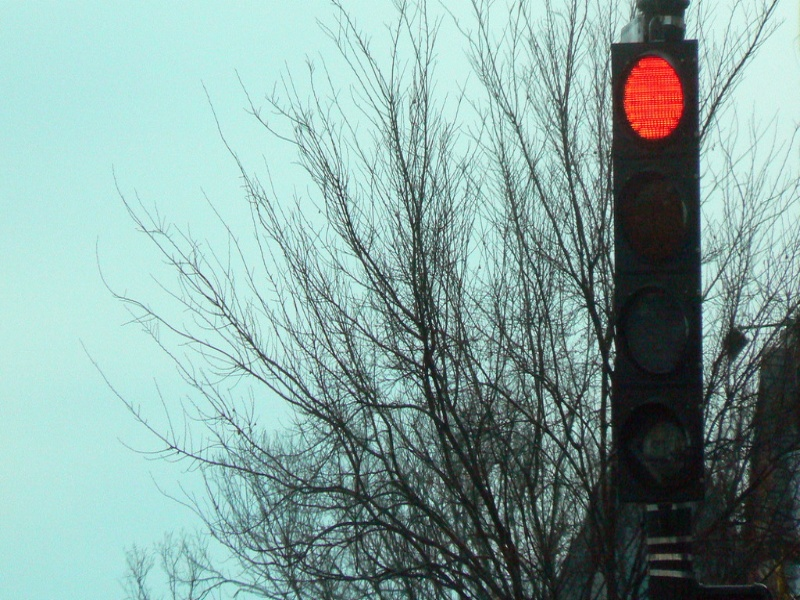red_light: (603, 38, 703, 148)
